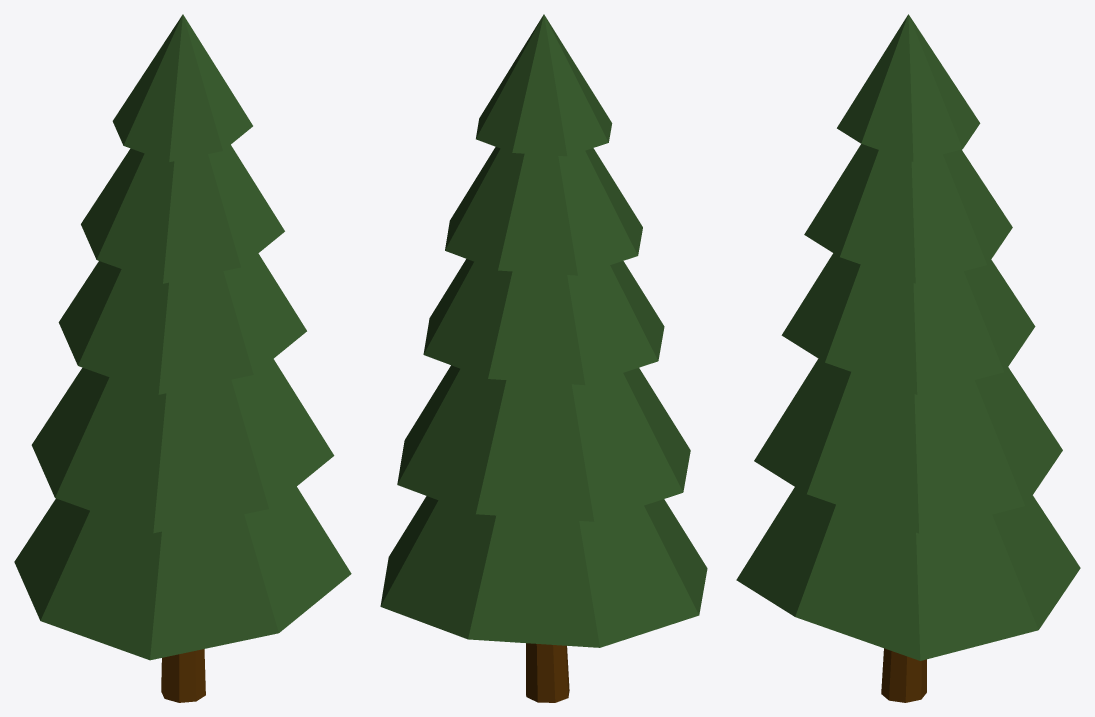
Rendered from Tree10.fbx.
3 renders of one model, left to right at view 1: azimuth 30°, elevation 25°; view 2: azimuth 150°, elevation 25°; view 3: azimuth 270°, elevation 25°, orthographic.
Parts seen in each view (by area): view 1: Tree10; view 2: Tree10; view 3: Tree10.
Boxes of the visible parts, x1,y1,x2,y2 form: Tree10: (14,14,351,702); Tree10: (380,14,707,702); Tree10: (736,14,1080,702).
Size of the model in its own units: 239 by 520 by 239.
